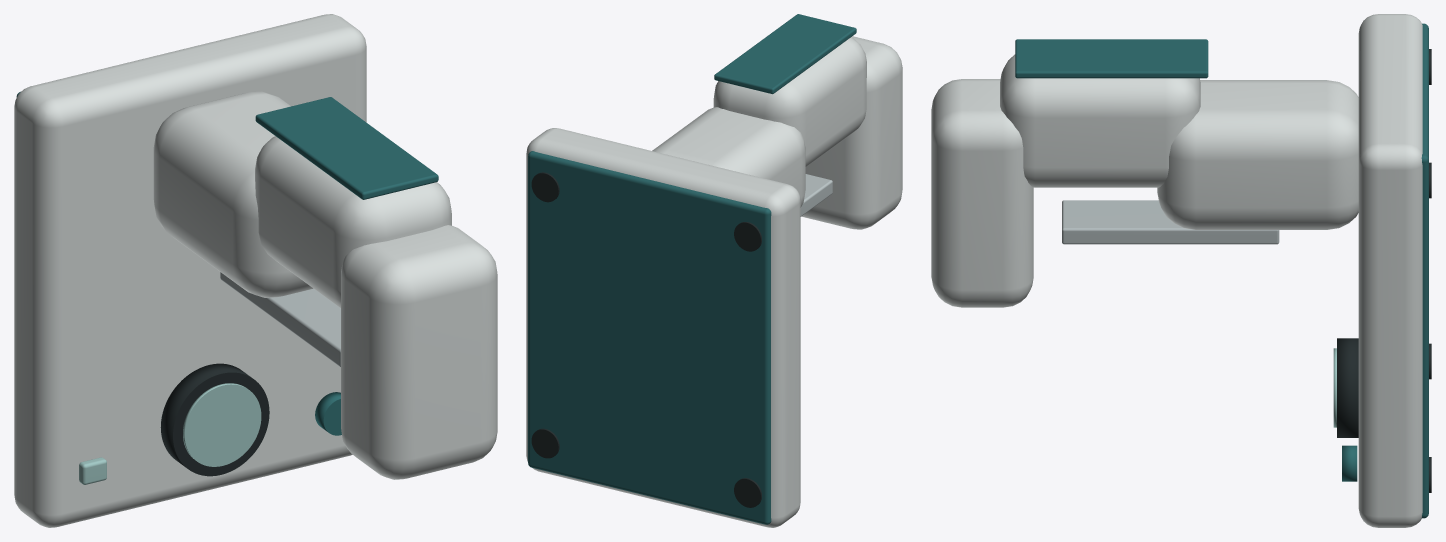
3 views of the same model, side by side, from view 1: azimuth 30°, elevation 25°; view 2: azimuth 150°, elevation 25°; view 3: azimuth 270°, elevation 25° (orthographic). The views are drawn at different scales.
Parts seen in each view (by area): view 1: foot, arm_shoulder, arm_lower, arm_rear, arm_inlay, light_diffuser, illuminator, focus_guide, light_dial, power_key; view 2: foot_trim, foot, arm_shoulder, arm_rear, arm_lower, arm_inlay, focus_guide, rubber_foot.002, rubber_foot.003, rubber_foot.001, rubber_foot; view 3: foot, arm_lower, arm_shoulder, arm_rear, arm_inlay, focus_guide, foot_trim, illuminator, light_dial.
Boxes of the visible parts, <box> form: foot: <box>14,14,366,527</box>; arm_shoulder: <box>341,225,497,479</box>; arm_lower: <box>153,91,313,297</box>; arm_rear: <box>255,136,451,308</box>; arm_inlay: <box>255,97,438,199</box>; light_diffuser: <box>183,383,261,466</box>; illuminator: <box>160,363,269,476</box>; focus_guide: <box>220,272,340,366</box>; light_dial: <box>315,392,341,435</box>; power_key: <box>79,457,106,484</box>; foot_trim: <box>528,151,771,524</box>; foot: <box>526,128,800,527</box>; arm_shoulder: <box>801,36,902,229</box>; arm_rear: <box>713,37,866,166</box>; arm_lower: <box>652,107,805,207</box>; arm_inlay: <box>714,14,856,94</box>; focus_guide: <box>800,174,832,216</box>; rubber_foot.002: <box>531,428,559,458</box>; rubber_foot.003: <box>531,172,559,202</box>; rubber_foot.001: <box>734,222,761,251</box>; rubber_foot: <box>734,478,761,507</box>; foot: <box>1358,14,1422,527</box>; arm_lower: <box>1157,80,1358,229</box>; arm_shoulder: <box>931,79,1033,307</box>; arm_rear: <box>1000,54,1200,187</box>; arm_inlay: <box>1015,39,1208,78</box>; focus_guide: <box>1062,200,1279,244</box>; foot_trim: <box>1421,23,1428,518</box>; illuminator: <box>1337,338,1358,437</box>; light_dial: <box>1342,445,1357,481</box>.
Bounding box in the file's own units: 0.268 × 0.353 × 0.391.
